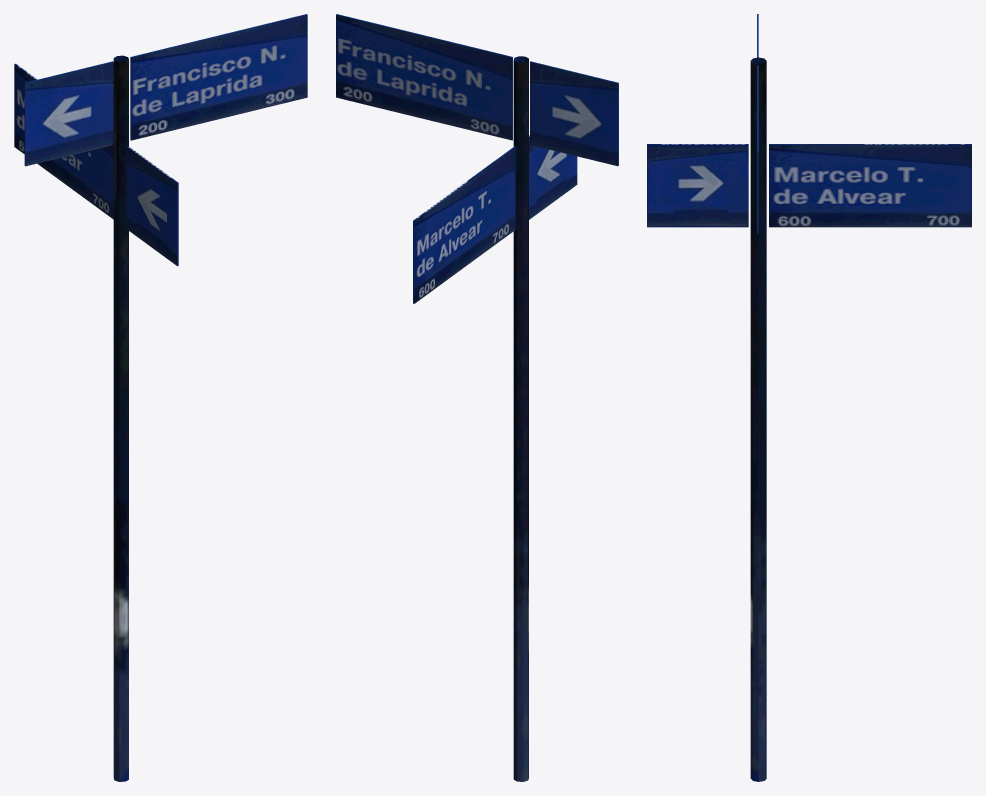
Rendered from Laprida_esq Marcelo T Alvear.fbx.
3 views of the same model, side by side, from view 1: azimuth 30°, elevation 25°; view 2: azimuth 150°, elevation 25°; view 3: azimuth 270°, elevation 25° (orthographic).
Visible parts, largest first — view 1: Dr. T. Achaval Rodriguez_esq_Marcelo T..001; view 2: Dr. T. Achaval Rodriguez_esq_Marcelo T..001; view 3: Dr. T. Achaval Rodriguez_esq_Marcelo T..001.
Part boxes in pixels (x1,y1,x2,y2): Dr. T. Achaval Rodriguez_esq_Marcelo T..001: [14, 14, 307, 781]; Dr. T. Achaval Rodriguez_esq_Marcelo T..001: [336, 14, 618, 781]; Dr. T. Achaval Rodriguez_esq_Marcelo T..001: [647, 14, 971, 781].
Size of the model in its own units: 3.2 by 7.8 by 3.2.
